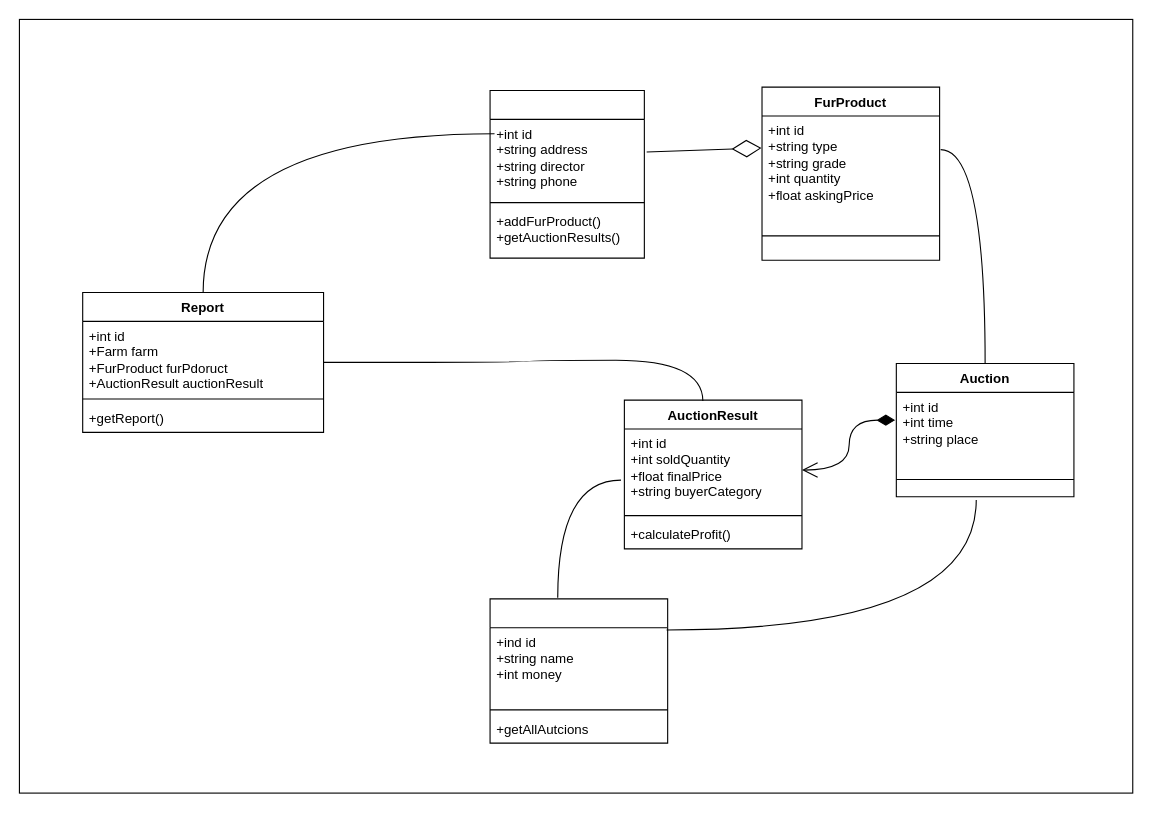
This 1152x813 diagram has some shape labels left out. Each missing label, with the box of its shape:
Buyer: (489, 598, 668, 743)
Farm: (489, 89, 644, 258)
